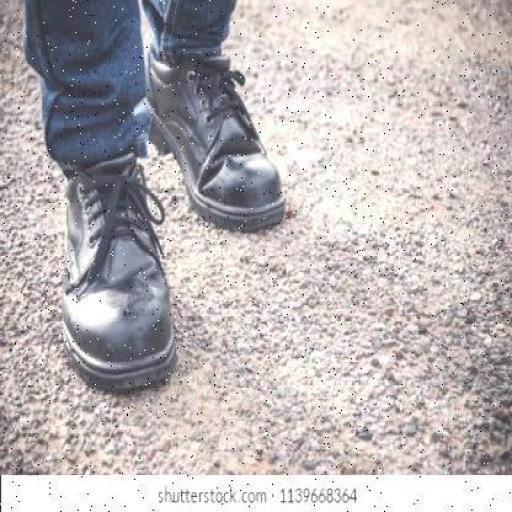safety_shoe: (146, 40, 298, 221), (50, 175, 175, 391)
